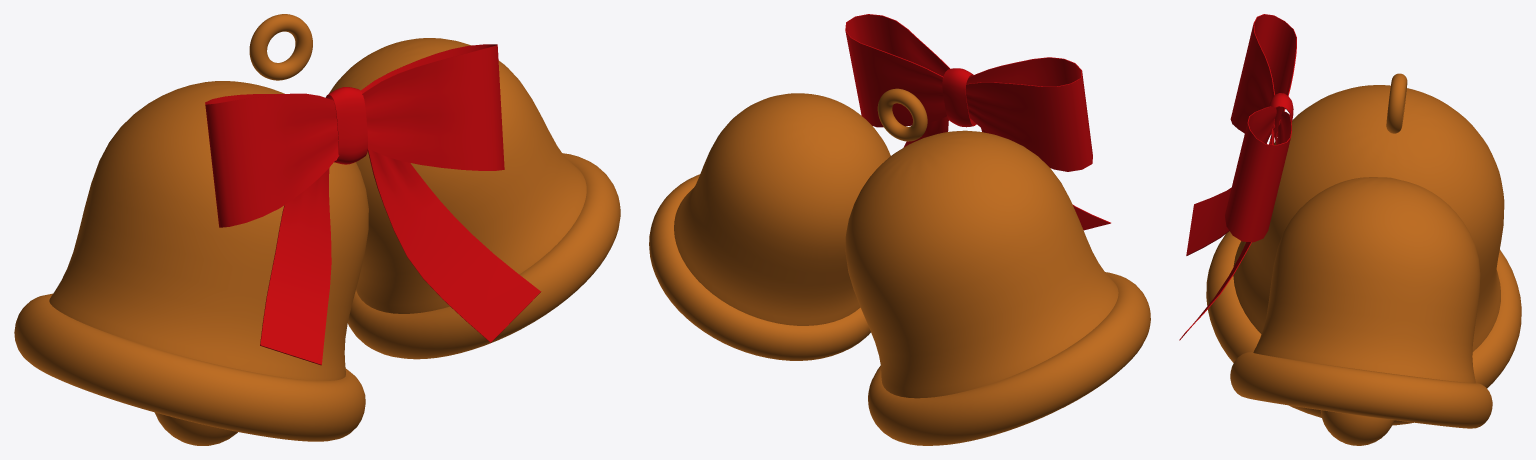
Rendered from bell.obj.
3 renders of one model, left to right at view 1: azimuth 30°, elevation 25°; view 2: azimuth 150°, elevation 25°; view 3: azimuth 270°, elevation 25°, orthographic. The views are drawn at different scales.
Parts seen in each view (by area): view 1: pita_Mesh.007, Sphere.003_Sphere.006, Sphere.005_Sphere.003, Torus.006_Torus.001, Torus.001_Torus.002, Torus, Sphere.004_Sphere.007; view 2: Sphere.003_Sphere.006, Sphere.005_Sphere.003, pita_Mesh.007, Torus.006_Torus.001, Torus.001_Torus.002, Torus; view 3: Sphere.005_Sphere.003, Sphere.003_Sphere.006, pita_Mesh.007, Torus.001_Torus.002, Torus.006_Torus.001, Sphere.006_Sphere.004, Torus.
Boxes of the visible parts, left/top/right/bottom form: pita_Mesh.007: left=205, top=44, right=540, bottom=365; Sphere.003_Sphere.006: left=49, top=81, right=368, bottom=380; Sphere.005_Sphere.003: left=329, top=38, right=586, bottom=313; Torus.006_Torus.001: left=14, top=293, right=365, bottom=441; Torus.001_Torus.002: left=348, top=153, right=620, bottom=359; Torus: left=249, top=14, right=312, bottom=80; Sphere.004_Sphere.007: left=154, top=412, right=237, bottom=445; Sphere.003_Sphere.006: left=845, top=130, right=1118, bottom=398; Sphere.005_Sphere.003: left=674, top=93, right=890, bottom=325; pita_Mesh.007: left=845, top=14, right=1110, bottom=230; Torus.006_Torus.001: left=868, top=272, right=1150, bottom=445; Torus.001_Torus.002: left=649, top=174, right=870, bottom=360; Torus: left=877, top=88, right=927, bottom=141; Sphere.005_Sphere.003: left=1253, top=177, right=1480, bottom=383; Sphere.003_Sphere.006: left=1233, top=85, right=1504, bottom=351; pita_Mesh.007: left=1179, top=14, right=1296, bottom=340; Torus.001_Torus.002: left=1230, top=352, right=1492, bottom=428; Torus.006_Torus.001: left=1206, top=231, right=1521, bottom=425; Sphere.006_Sphere.004: left=1320, top=410, right=1394, bottom=445; Torus: left=1386, top=73, right=1407, bottom=133.
Bounding box in the file's own units: 3.38 × 2.28 × 2.03.
